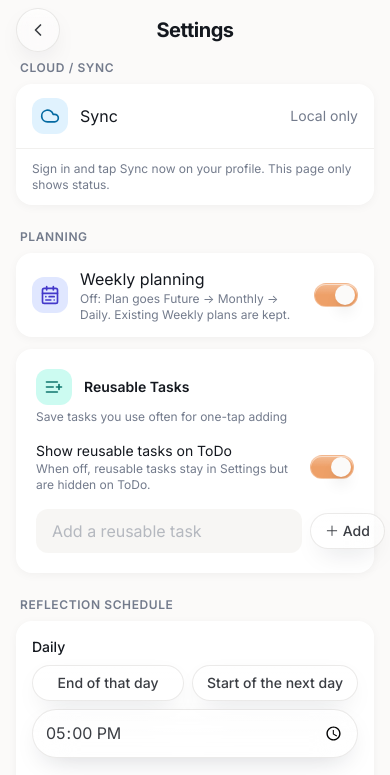
Test: Phase 11 Settings › 4. Settings creates a V3 TaskTemplate and does not write reusable-tasks
Type "Email professor" into the field with placeholder "Add a reusable task".
click(169, 531); type("Email professor")  # box x1=36 y1=509 x2=302 y2=553
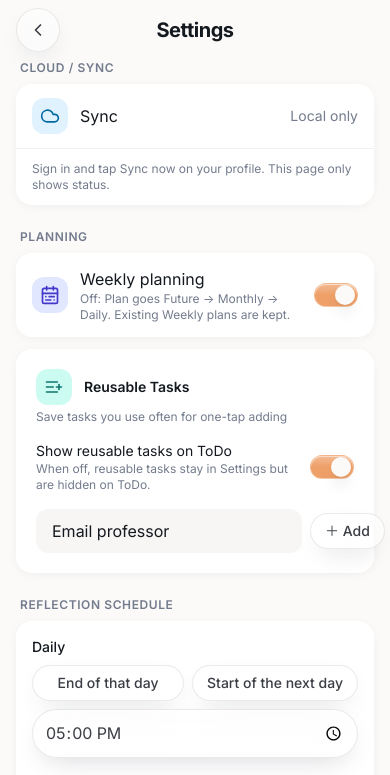
Click the button "＋ Add".
click(347, 531)  # box x1=310 y1=513 x2=385 y2=549
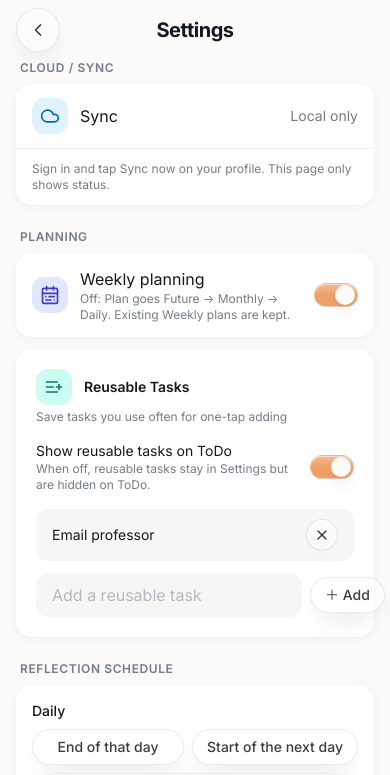
Result: the text "Email professor" is shown at x1=52 y1=525 x2=155 y2=545
